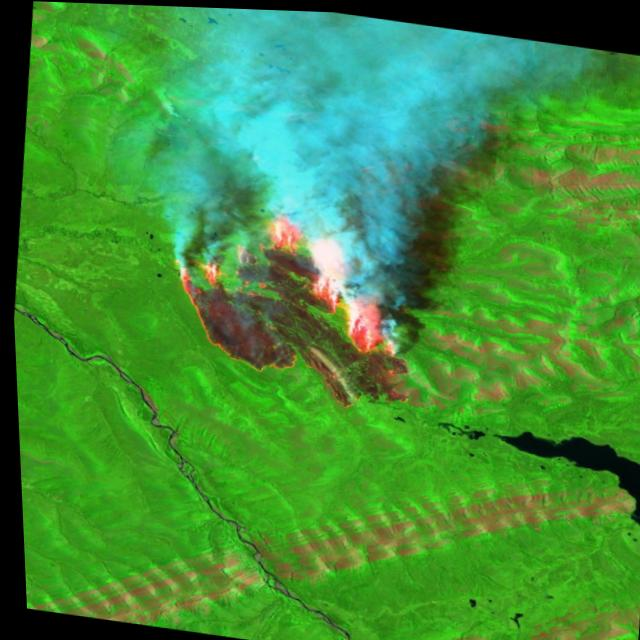fire: (154, 192, 423, 406)
